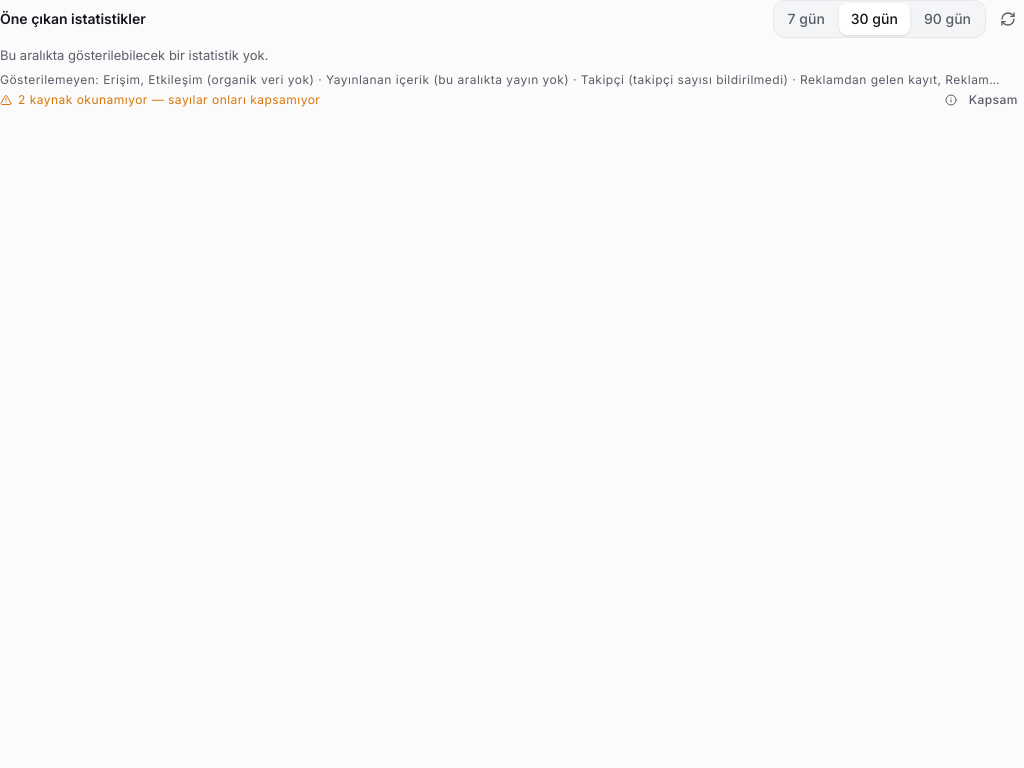
it: AccountStatsPanel › keeps the blind spots on screen and their detail one click away
Expected: the text "2 kaynak okunamıyor — sayılar onları kapsamıyor" is shown, [18,92,320,107]
Click the button "Kapsam": {"x": 981, "y": 100} [939,90,1023,110]
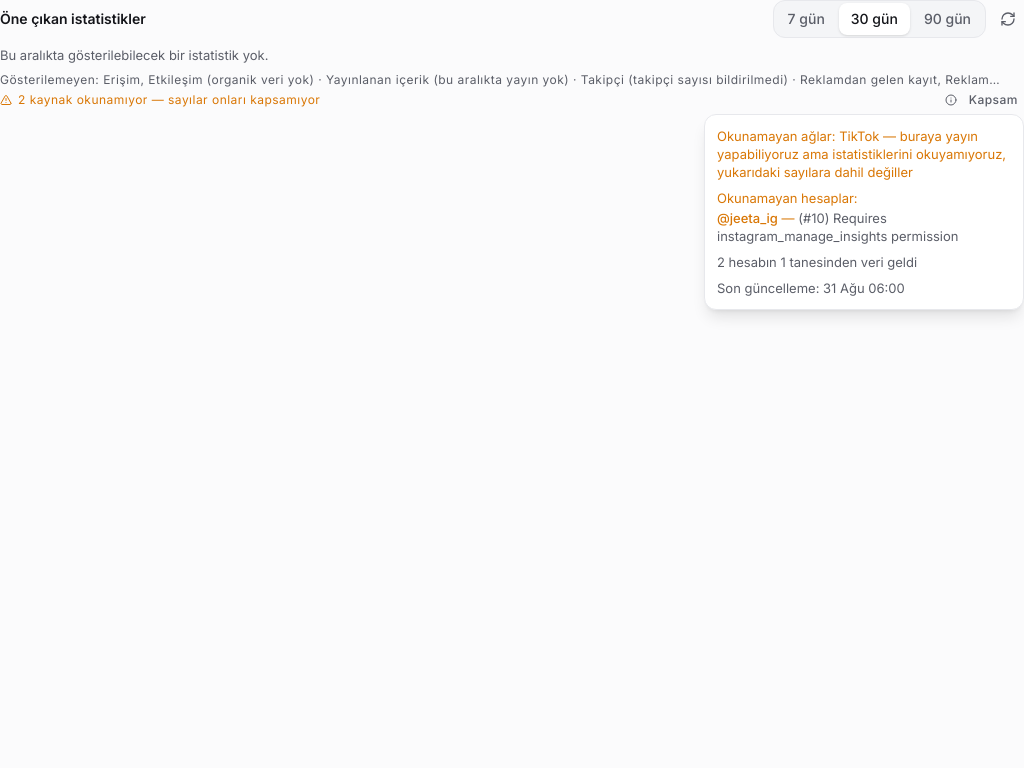
Expected: the text "Okunamayan ağlar" shows "TikTok", [839,128,879,144]
Expected: the list item "@jeeta_ig" shows "instagram_manage_insights", [717,210,958,244]
Expected: the text "2 hesabın 1 tanesinden veri geldi" is shown, [717,254,917,270]
